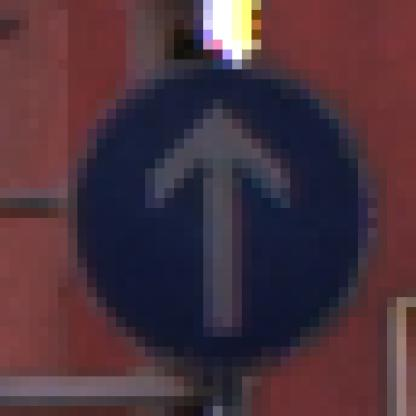AheadOnly: (59, 51, 359, 358)
